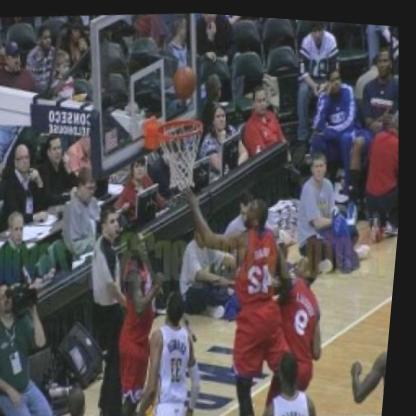basketball: (168, 56, 207, 101)
rim: (154, 111, 211, 192)
